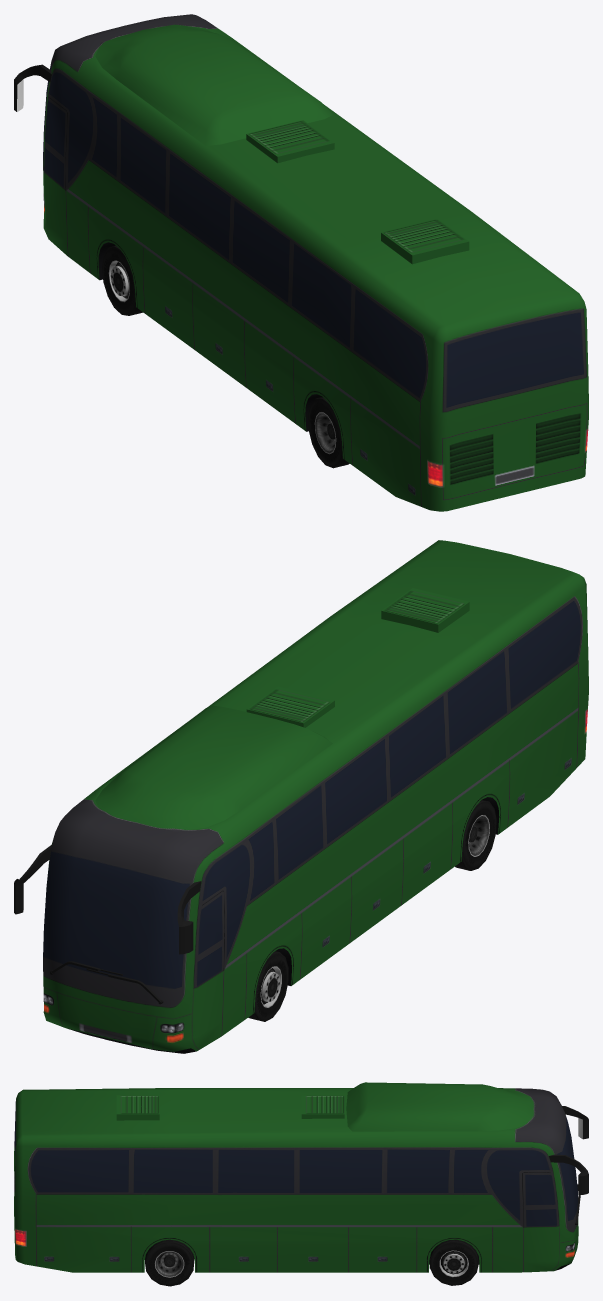
The model's file is City Bus Lowpoly3_Green.FBX.
The picture shows the model from 3 angles, top to bottom: view 1: azimuth 30°, elevation 25°; view 2: azimuth 150°, elevation 25°; view 3: azimuth 270°, elevation 25°; orthographic projection. The views are drawn at different scales.
Parts seen in each view (by area): view 1: City Bus Lowpoly3_Green, City Bus Lowpoly3_Green_Wheel_04, City Bus Lowpoly3_Green_Wheel_02; view 2: City Bus Lowpoly3_Green, City Bus Lowpoly3_Green_Wheel_04, City Bus Lowpoly3_Green_Wheel_02; view 3: City Bus Lowpoly3_Green, City Bus Lowpoly3_Green_Wheel_03, City Bus Lowpoly3_Green_Wheel_01.
Boxes of the visible parts, left/top/right/bottom form: City Bus Lowpoly3_Green: left=14, top=14, right=588, bottom=511; City Bus Lowpoly3_Green_Wheel_04: left=308, top=397, right=349, bottom=468; City Bus Lowpoly3_Green_Wheel_02: left=102, top=245, right=142, bottom=315; City Bus Lowpoly3_Green: left=14, top=540, right=588, bottom=1053; City Bus Lowpoly3_Green_Wheel_04: left=455, top=800, right=496, bottom=870; City Bus Lowpoly3_Green_Wheel_02: left=248, top=951, right=288, bottom=1021; City Bus Lowpoly3_Green: left=14, top=1082, right=588, bottom=1272; City Bus Lowpoly3_Green_Wheel_03: left=145, top=1239, right=194, bottom=1286; City Bus Lowpoly3_Green_Wheel_01: left=430, top=1239, right=478, bottom=1285.
Bounding box in the file's own units: 3.08 × 4.03 × 12.66.
